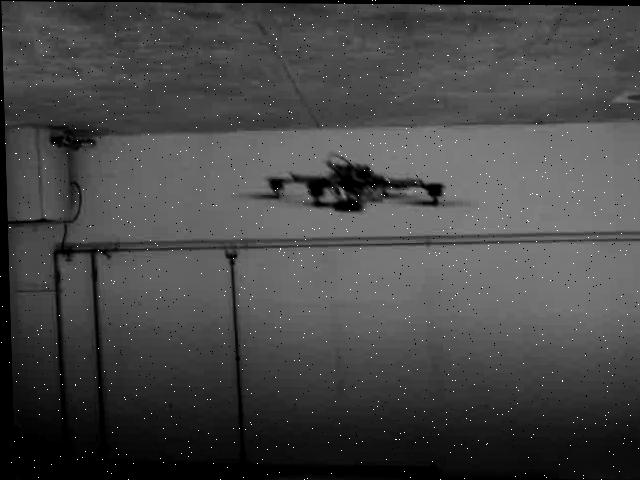drone: (210, 100, 487, 270)
